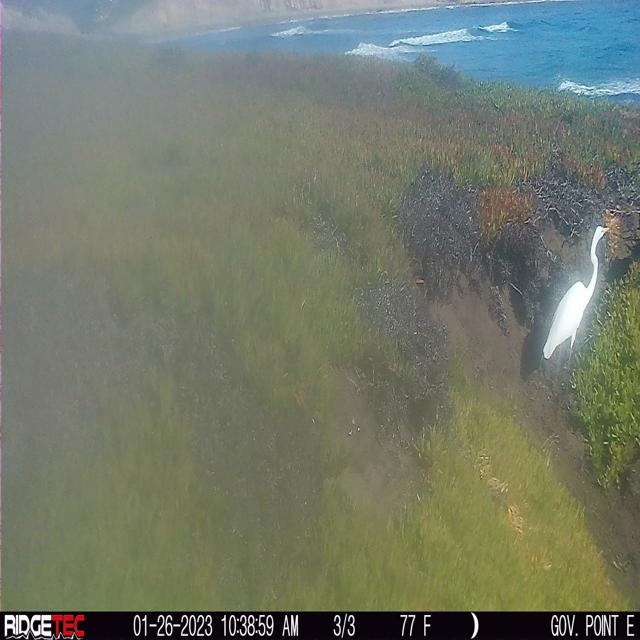bird: (518, 183, 619, 395)
